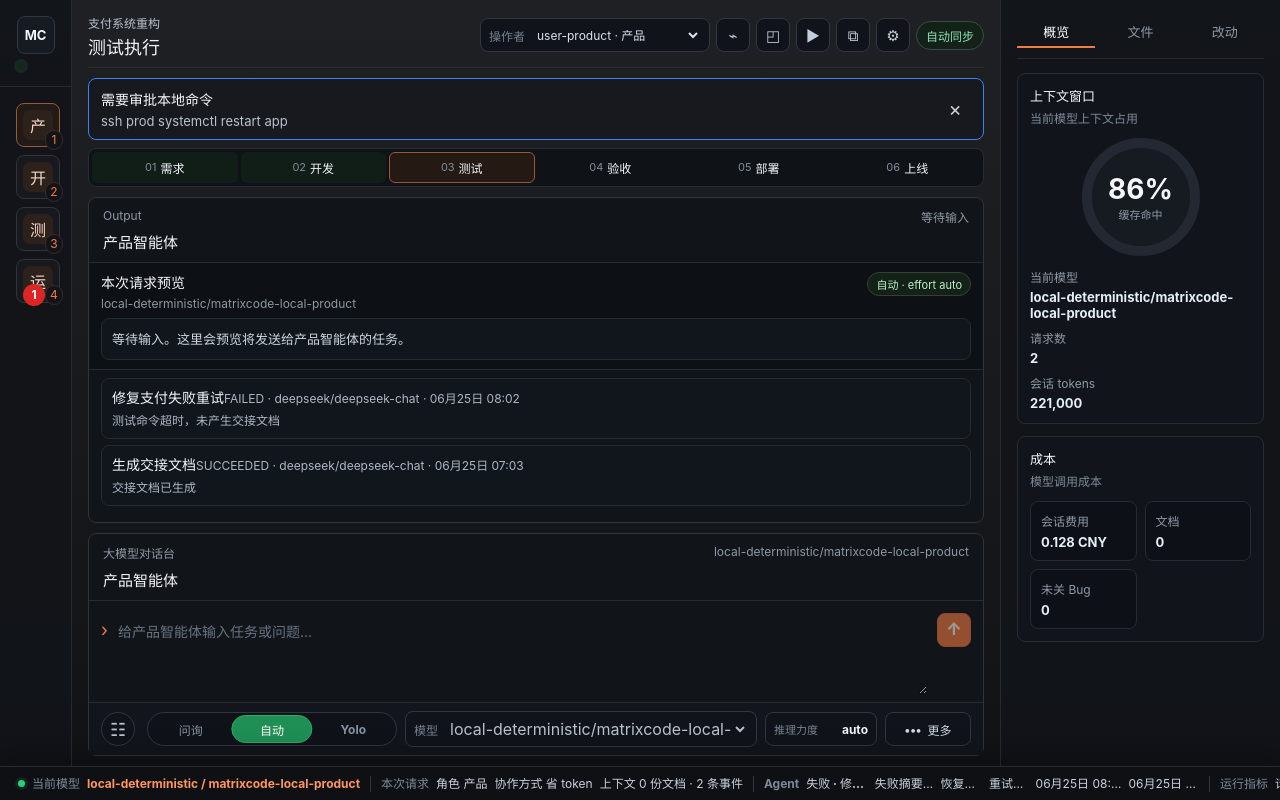
Test case: MatrixCode 桌面工作台 › 展示项目、全部角色、阶段状态和底部状态栏
Expected: the text "支付系统重构" is shown, [88,16,160,33]
Expected: the dropdown named "当前操作者" is shown, [533,27,701,44]
Click the button named "工作流" at (853, 35), box [836,18,870,52]
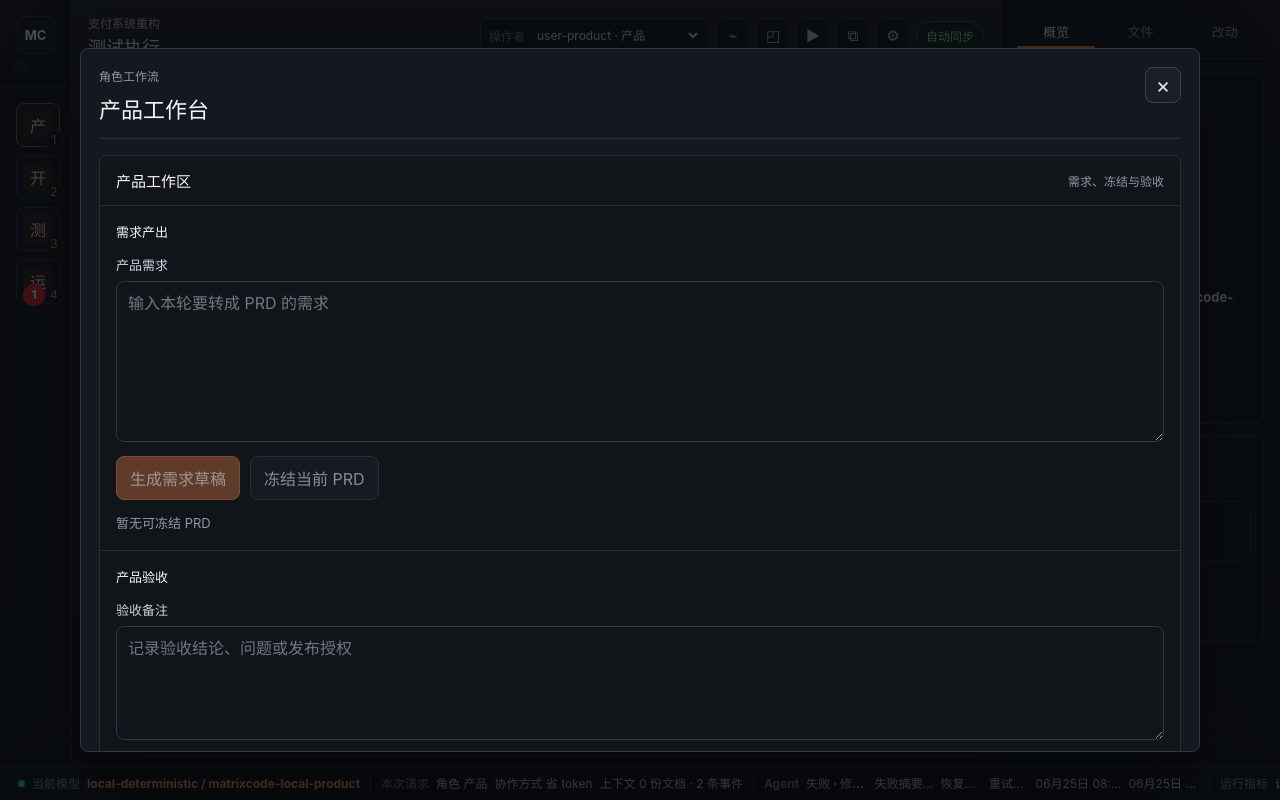
Expected: the element named "输出与预览" is shown, [1000,0,1279,766]
Expected: the dialog "角色工作流" is shown
Expected: the element labelled "产品工作区" is shown
